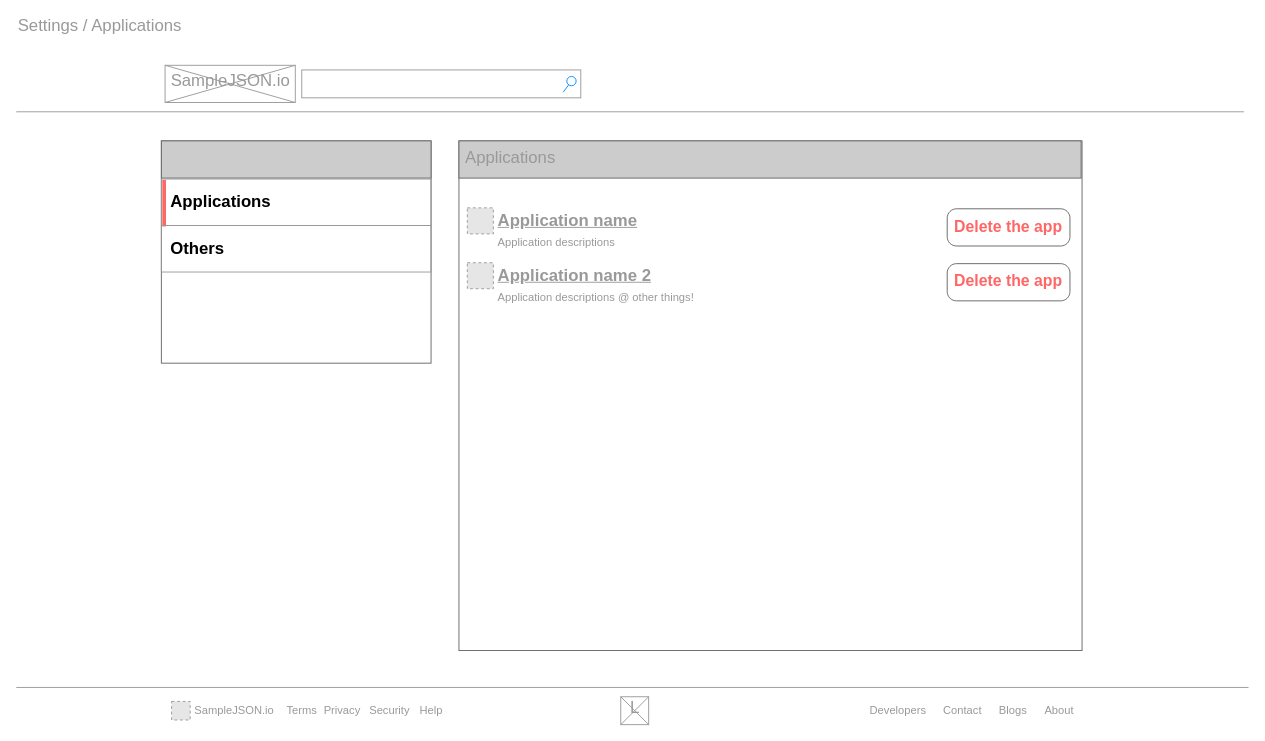
Some shapes in this 1265 by 741 pixel diagram are drawn without their labels. Grey dashed boxes stand in for pictures. Here are the shapes that lost their labels. From the top down, the centre of each, then its label:
pixel 441 83: Search
pixel 295 159: Settings
